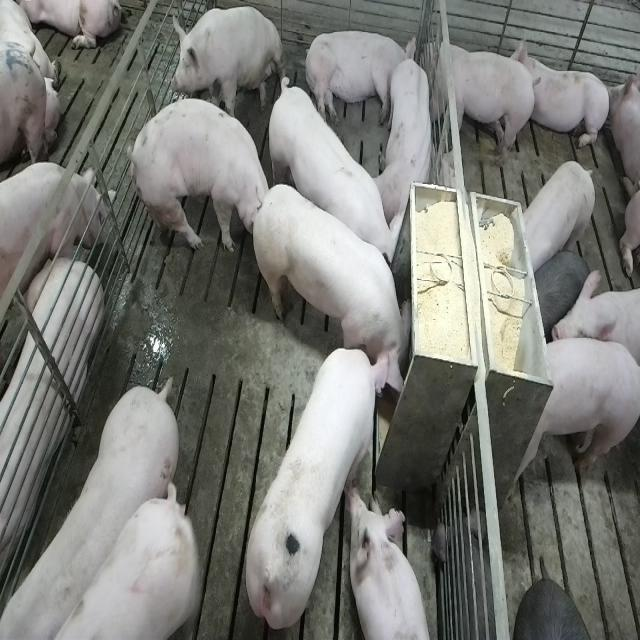Feeding: (243, 343, 392, 630), (256, 177, 419, 393)
Lateral_lying: (0, 253, 102, 604), (303, 28, 417, 127)
Sitting: (170, 6, 286, 126)
Standing: (0, 380, 181, 640), (265, 72, 398, 279), (123, 94, 264, 261), (514, 336, 639, 490), (422, 30, 537, 171), (0, 165, 107, 312), (515, 160, 597, 276), (532, 246, 594, 339)
Sternal_lying: (349, 484, 434, 640), (515, 34, 613, 154), (376, 55, 437, 228)
